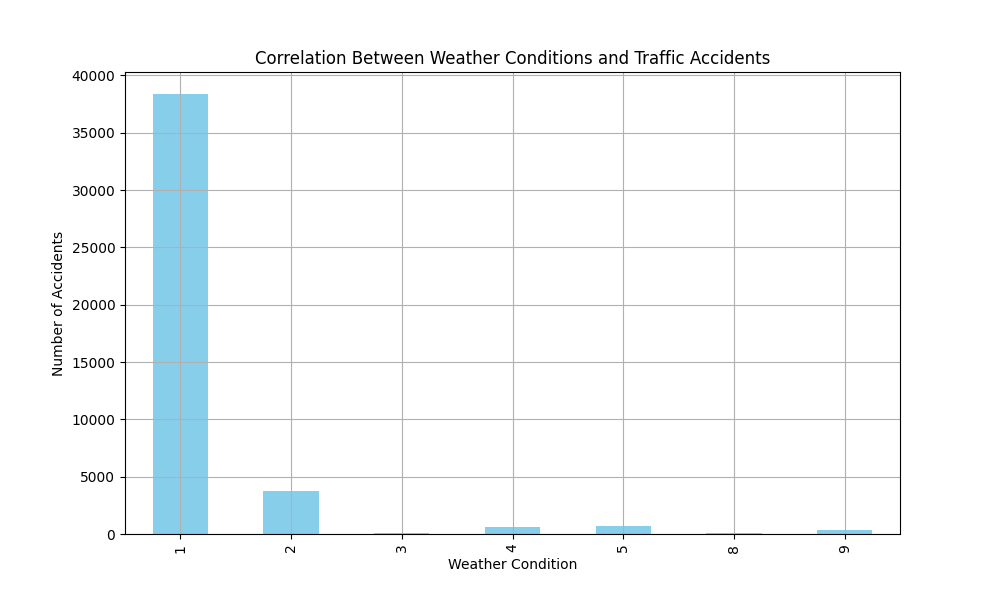

This screenshot's page, from the dashboard's own definition file:
{"tool":"tableau","page":{"name":"Dashboard 1","canvas":[1000,1000],"units":"permille","ordinal":0},"visuals":[{"type":"worksheet","title":"Sheet 2","mark":"Bar","rows":["count"],"cols":["date","date"],"box":[1.8,480.7,991,499.4]}]}

Visuals, with their boxes on the dashboard's canvas, which has no fixed pixel size, in thousandths of its width and height (x1, y1, x2, y2). These are canvas units, not pixel positions in the 1000x600 screenshot, which may show the page scaled, cropped or inside an application window:
"Sheet 2" worksheet (Bar marks): left=2, top=481, right=993, bottom=980
